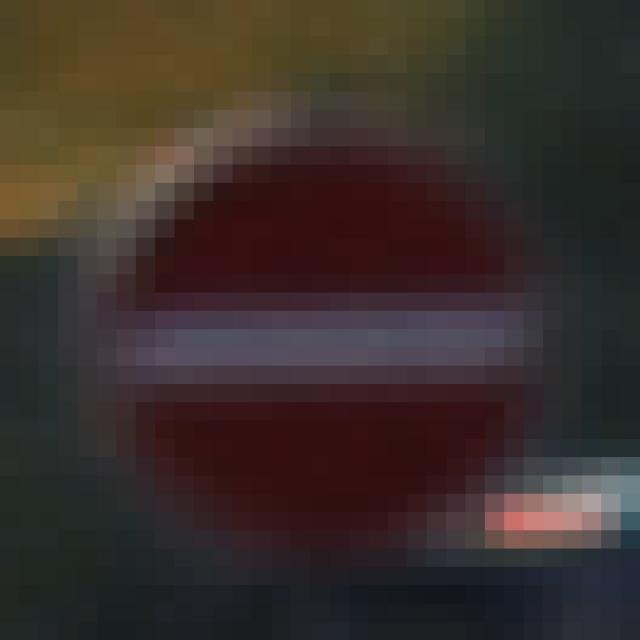No Entry: (98, 111, 544, 550)
